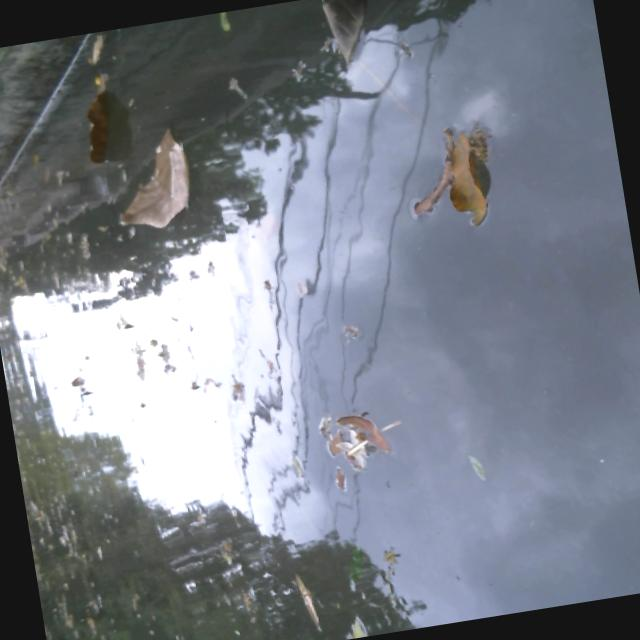Big-leaf: (101, 120, 216, 235), (442, 123, 519, 227), (66, 72, 143, 171), (311, 0, 391, 65)
Small-leaf: (307, 394, 406, 469), (403, 153, 461, 219), (289, 567, 326, 636), (122, 329, 161, 385), (65, 357, 101, 411), (214, 65, 263, 103), (73, 29, 116, 67), (202, 532, 247, 568), (213, 372, 256, 406), (277, 51, 319, 82), (462, 444, 494, 483), (330, 611, 372, 640), (213, 9, 243, 40)
